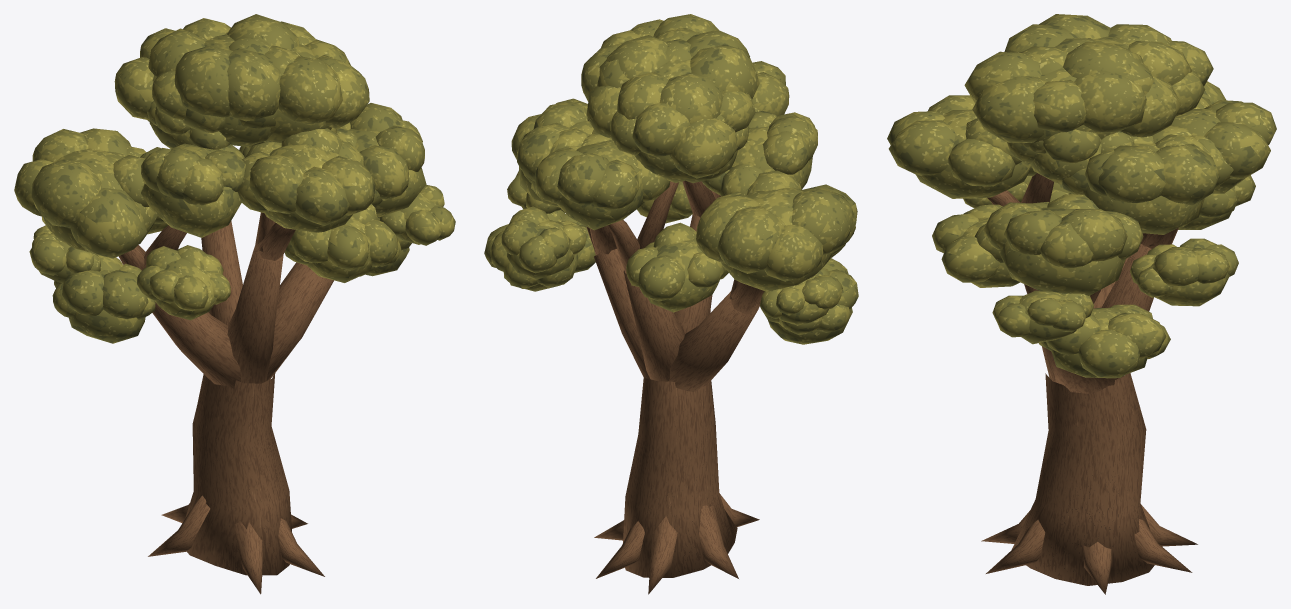
Rendered from oak_tree.glb.
The picture shows the model from 3 angles, left to right: view 1: azimuth 30°, elevation 25°; view 2: azimuth 150°, elevation 25°; view 3: azimuth 270°, elevation 25°; orthographic projection. The views are drawn at different scales.
Visible parts, largest first — view 1: oak_tree_leaf_clusters, oak_tree_trunk_branches; view 2: oak_tree_leaf_clusters, oak_tree_trunk_branches; view 3: oak_tree_leaf_clusters, oak_tree_trunk_branches.
Part boxes in pixels (left/top/right/bottom): oak_tree_leaf_clusters: left=14, top=14, right=455, bottom=343; oak_tree_trunk_branches: left=118, top=212, right=333, bottom=594; oak_tree_leaf_clusters: left=484, top=14, right=858, bottom=344; oak_tree_trunk_branches: left=586, top=180, right=764, bottom=594; oak_tree_leaf_clusters: left=887, top=14, right=1276, bottom=378; oak_tree_trunk_branches: left=981, top=173, right=1197, bottom=594.
Size of what is drawn, in the model's own units: 4 by 5.4 by 3.6.
2 materials, 2 textured.
